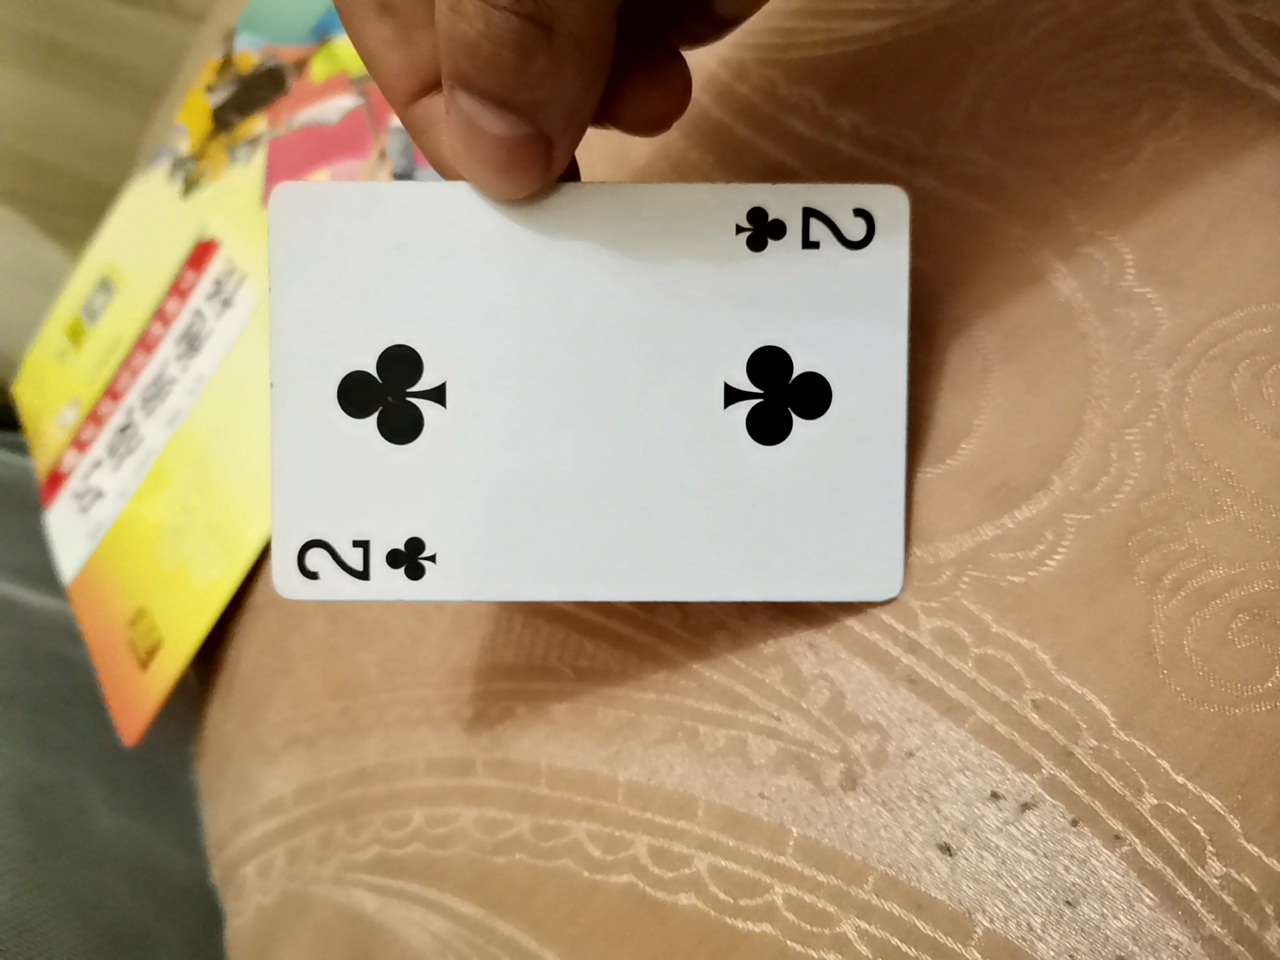mh 2: (265, 172, 897, 607)
